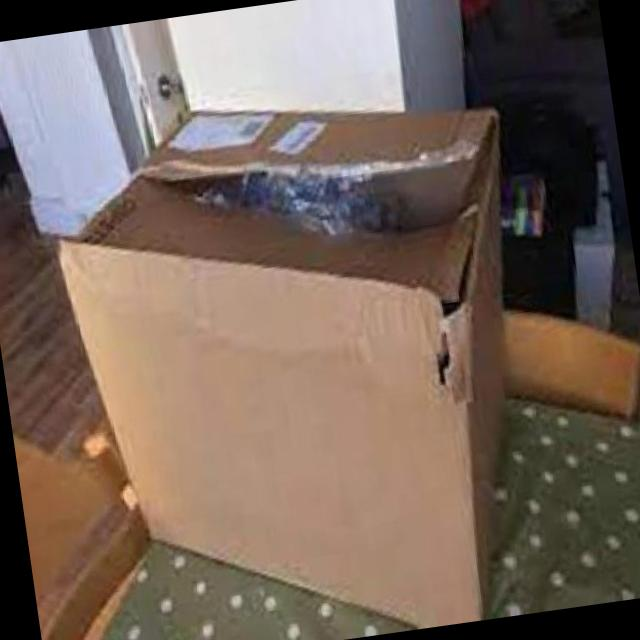box: (55, 109, 509, 640)
crushed: (176, 252, 394, 348)
opened: (136, 141, 482, 232), (424, 236, 483, 401)
